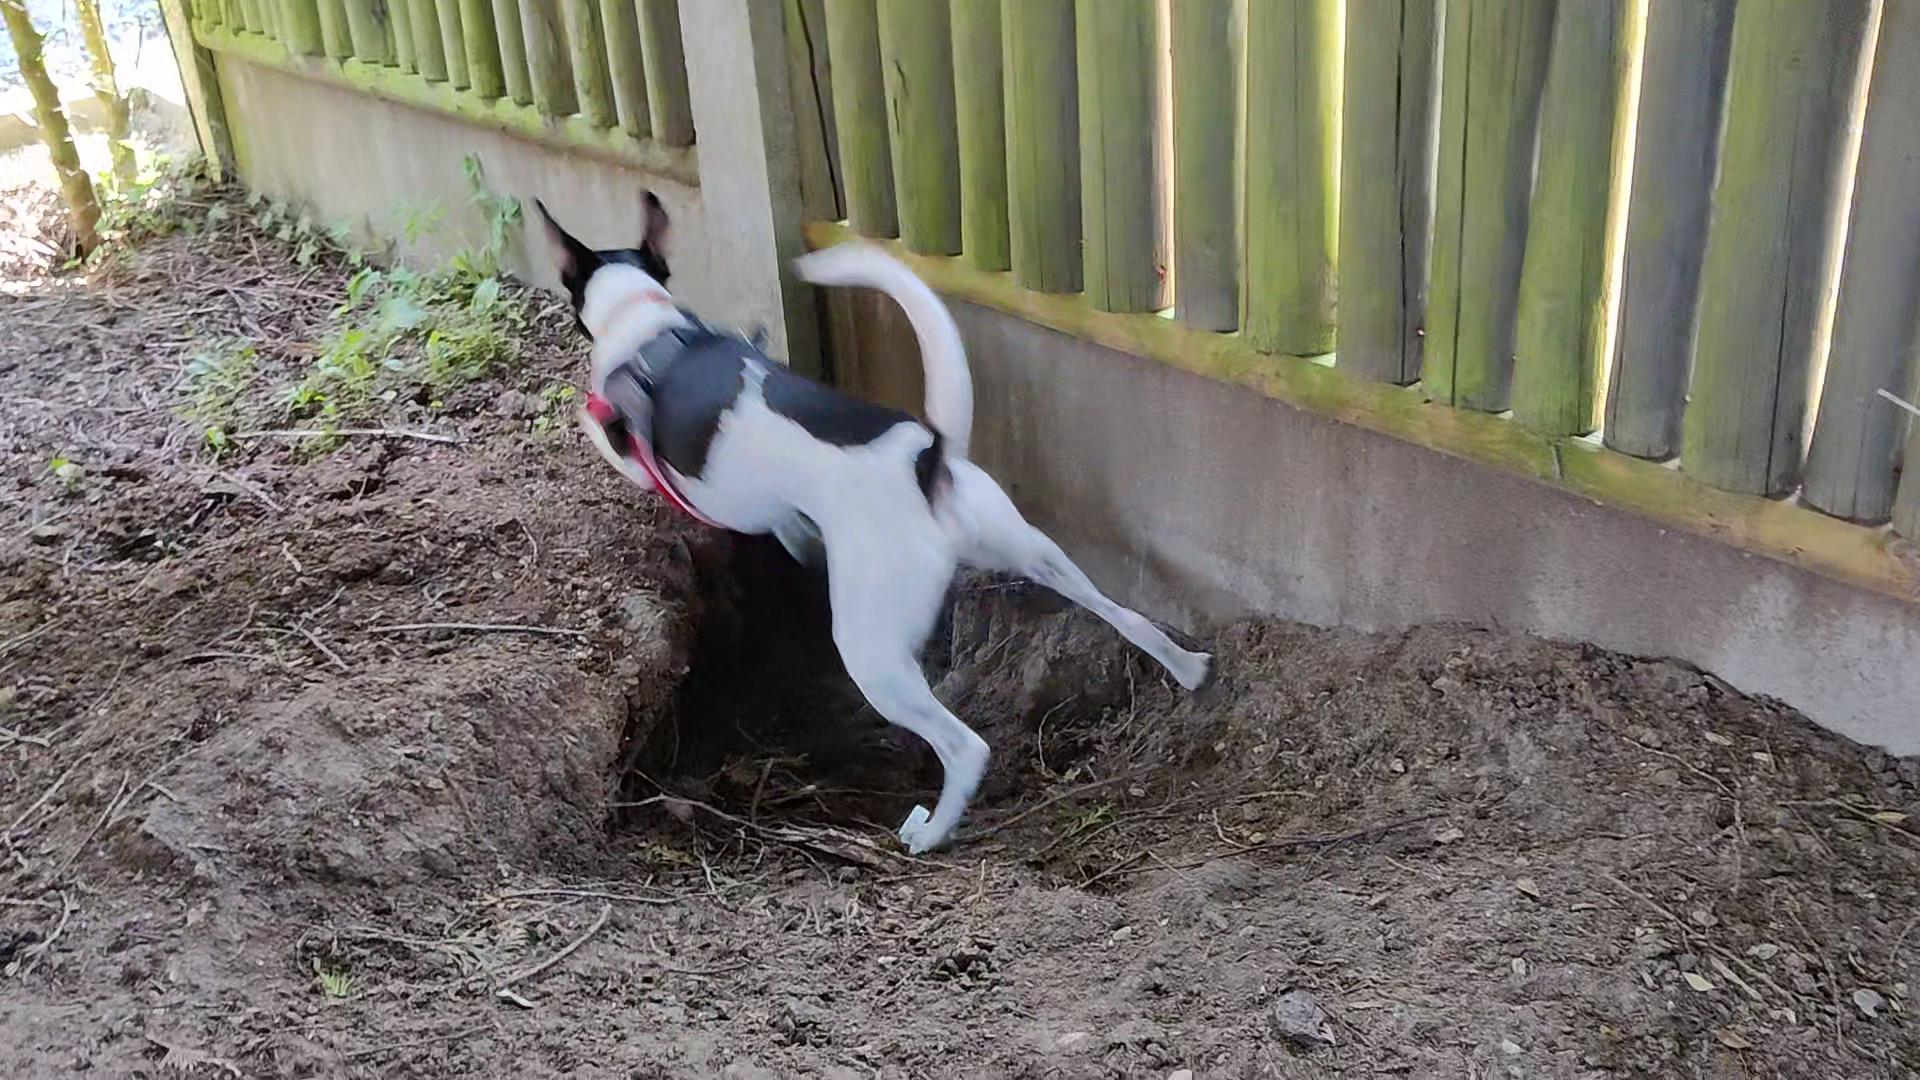Dog: (496, 179, 1232, 868)
